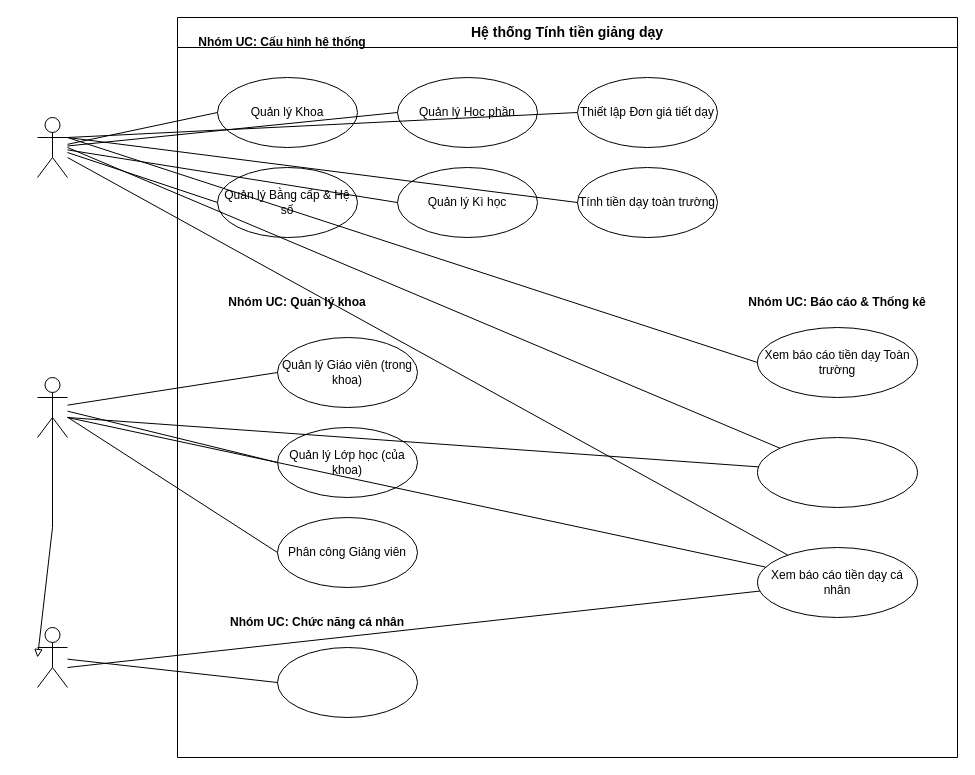
The diagram is 975 pixels wide and 775 high, and some of its shapes have lost their labels. The shapes that lost their labels are listed below. From the top down, each one's centre as x and y in pixels, then its label:
At pixel 52 147: "Kế toán".
At pixel 52 407: "Trưởng khoa".
At pixel 837 472: "Xem báo cáo tiền dạy Khoa".
At pixel 52 657: "Giáo viên".
At pixel 347 682: "Xem lịch phân công".
